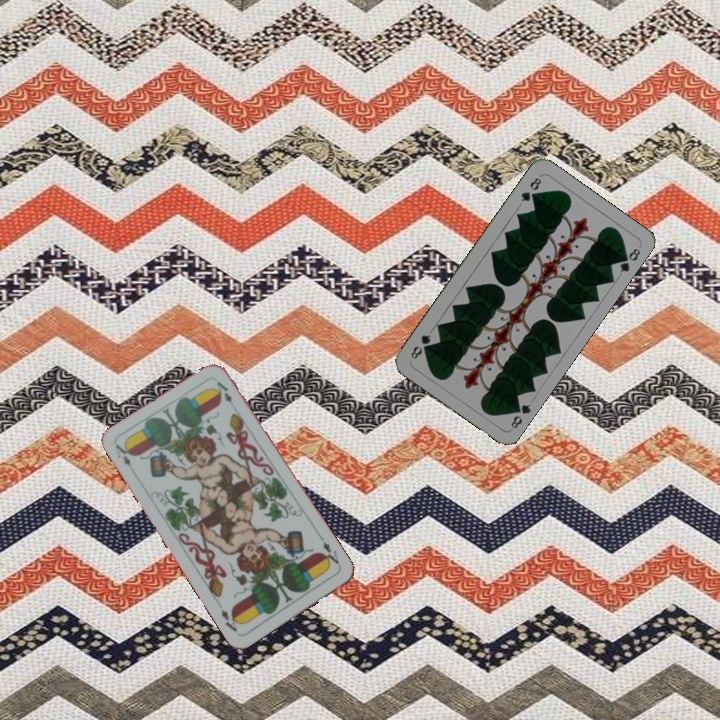EA: (316, 533, 342, 568), (111, 440, 134, 469)
G8: (507, 399, 534, 431), (517, 173, 544, 204)
